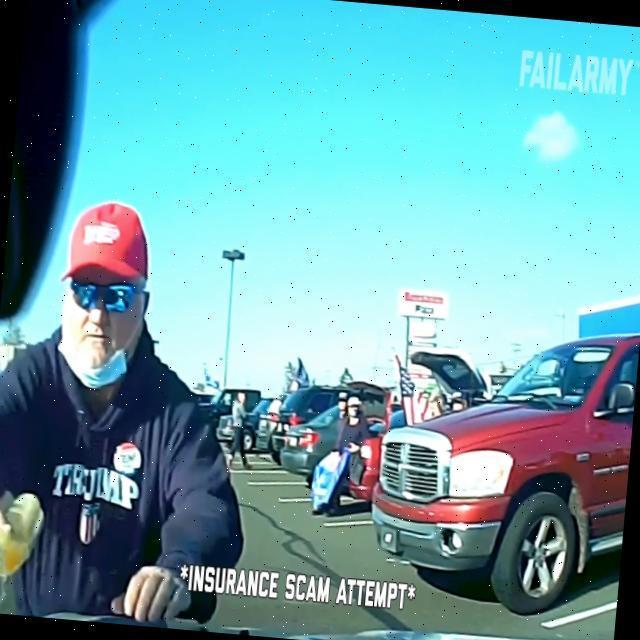person: (0, 192, 269, 633)
